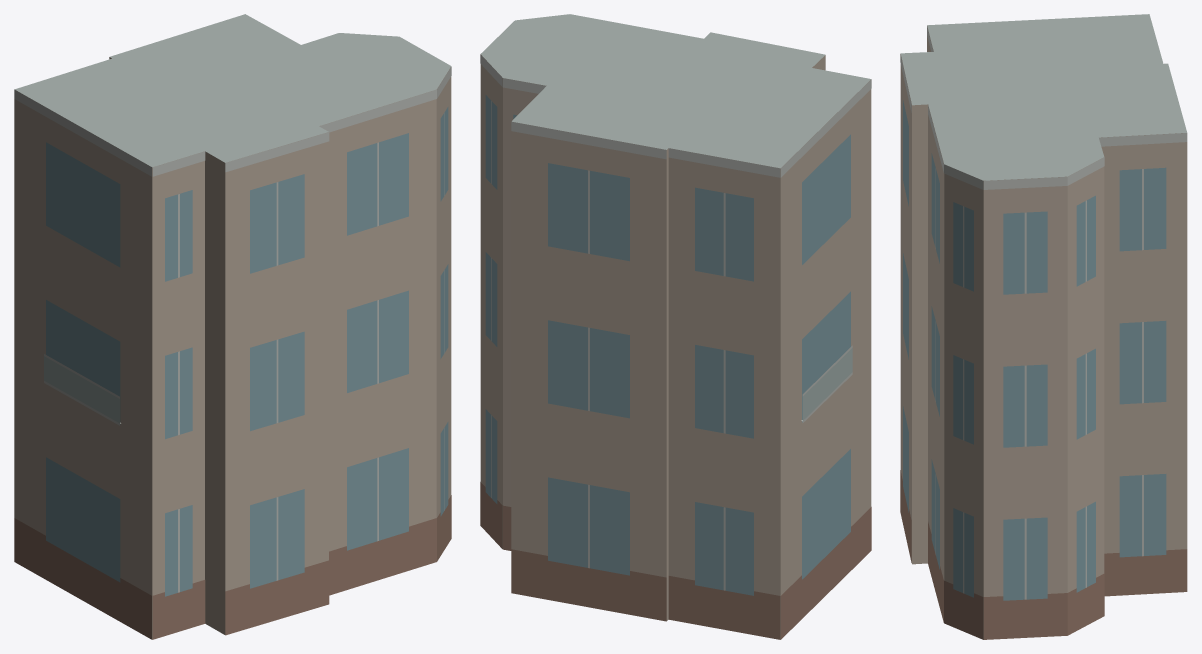
The model's file is survey-upis-32608163.glb.
3 renders of one model, left to right at view 1: azimuth 30°, elevation 25°; view 2: azimuth 150°, elevation 25°; view 3: azimuth 270°, elevation 25°, orthographic. The views are drawn at different scales.
Parts seen in each view (by area): view 1: survey-upis-32608163.tmp; view 2: survey-upis-32608163.tmp; view 3: survey-upis-32608163.tmp.
Part boxes in pixels (left/top/right/bottom): survey-upis-32608163.tmp: left=14, top=14, right=451, bottom=639; survey-upis-32608163.tmp: left=480, top=14, right=871, bottom=639; survey-upis-32608163.tmp: left=900, top=14, right=1187, bottom=639.
Size of the model in its own units: 9.44 by 12.1 by 6.86.
